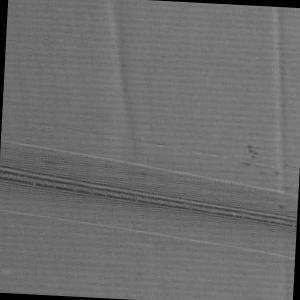Stain: (238, 139, 299, 211)
Wrinkle: (251, 6, 300, 200), (92, 1, 150, 159)
